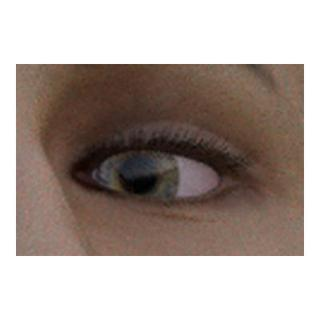pupil: (119, 158, 156, 194)
